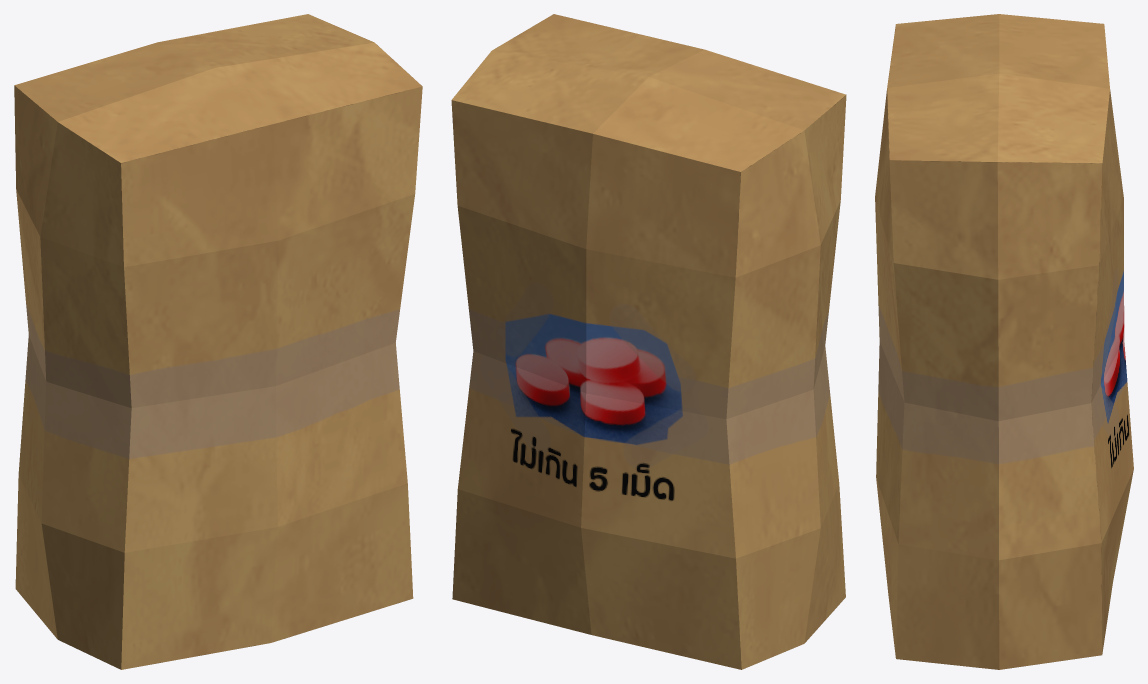
The model's file is bag.fbx.
3 renders of one model, left to right at view 1: azimuth 30°, elevation 25°; view 2: azimuth 150°, elevation 25°; view 3: azimuth 270°, elevation 25°, orthographic. The views are drawn at different scales.
Parts seen in each view (by area): view 1: Cube; view 2: Cube; view 3: Cube.
Part boxes in pixels (x1,y1,x2,y2): Cube: (14,14,422,669); Cube: (451,14,846,669); Cube: (875,14,1133,669).
Bounding box in the file's own units: 26.06 × 38.98 × 17.08.
1 material, 1 textured.
